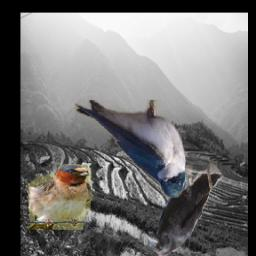Crow: (148, 162, 225, 256)
Swallow: (74, 101, 187, 199), (27, 164, 93, 230)
